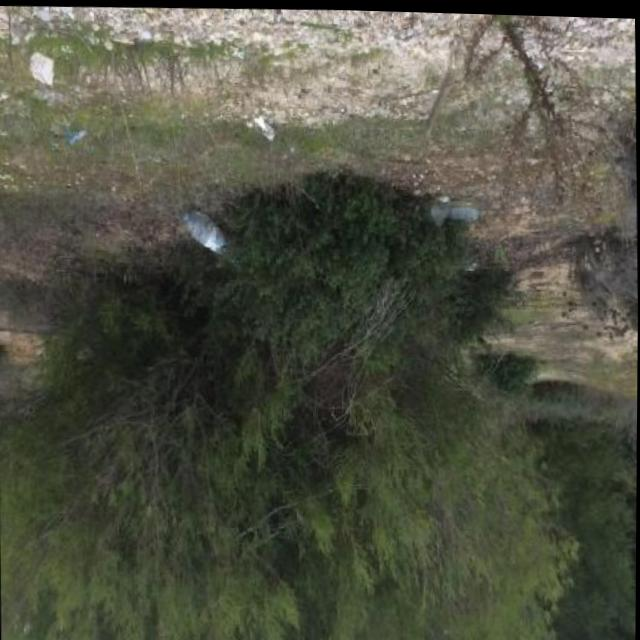plastic: (182, 210, 238, 259), (414, 194, 479, 225)
